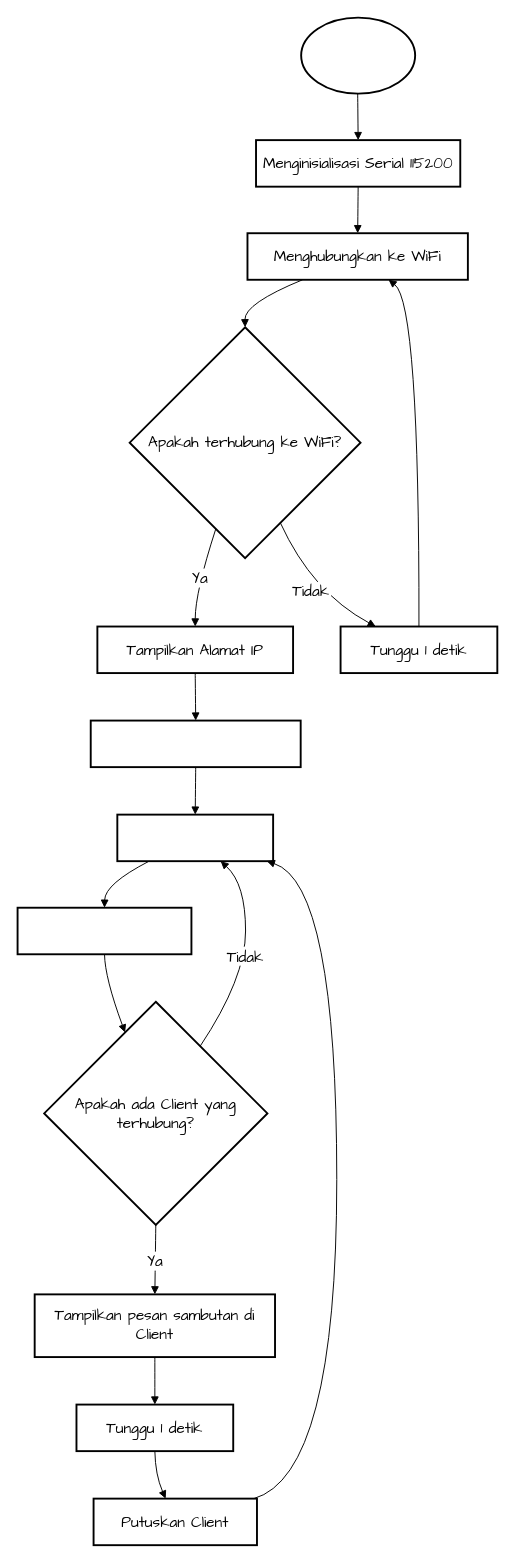
This 514x1562 diagram has some shape labels left out. Each missing label, with the centre of its shape:
Masuk ke Loop: the point at 195,837
Mengakses Client: the point at 104,930
Menginisialisasi Server: the point at 195,743
Mulai: the point at 358,55
